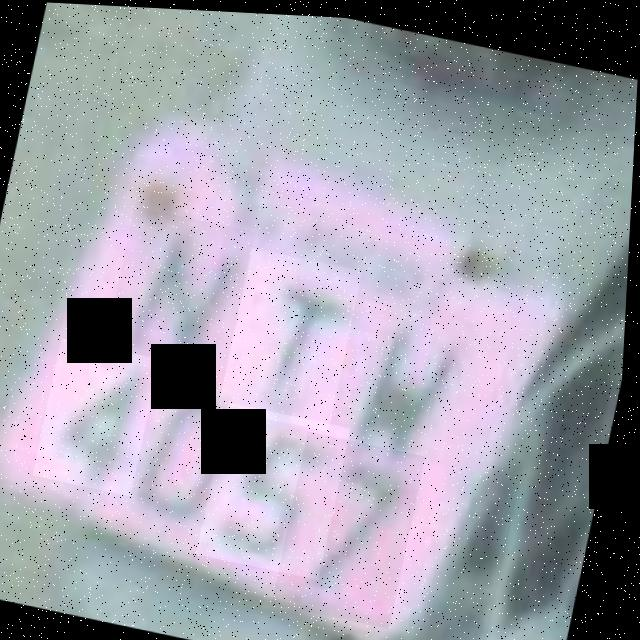0: (115, 357, 261, 539)
4: (37, 337, 164, 496)
5: (201, 399, 356, 578)
7: (277, 427, 431, 625)
N: (103, 204, 259, 392)
T: (221, 244, 365, 429)
